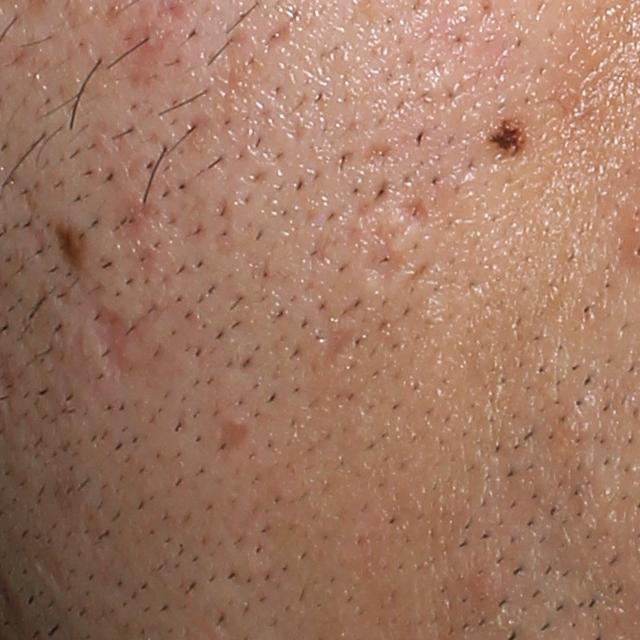atrophic_scar: (93, 300, 154, 385), (118, 16, 167, 90), (360, 224, 406, 289), (321, 322, 362, 370), (111, 199, 160, 239), (181, 112, 211, 153), (357, 140, 393, 170), (400, 191, 430, 223)
nevus: (484, 120, 530, 160), (55, 222, 89, 272)
